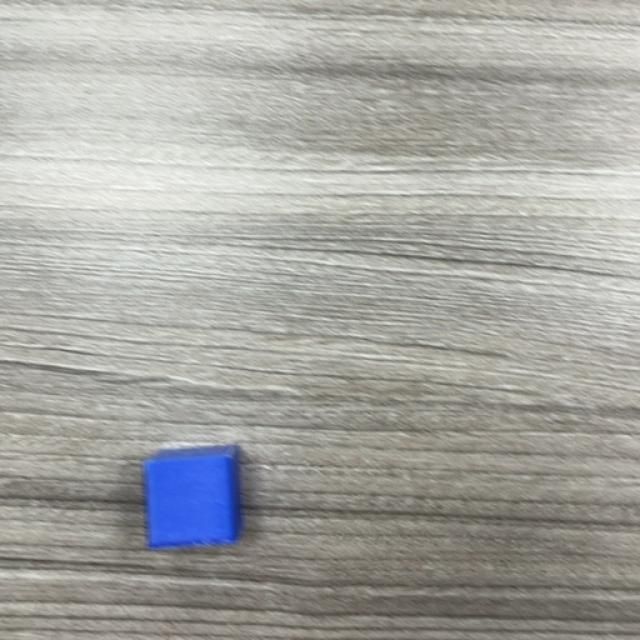Azul: (142, 445, 244, 550)
